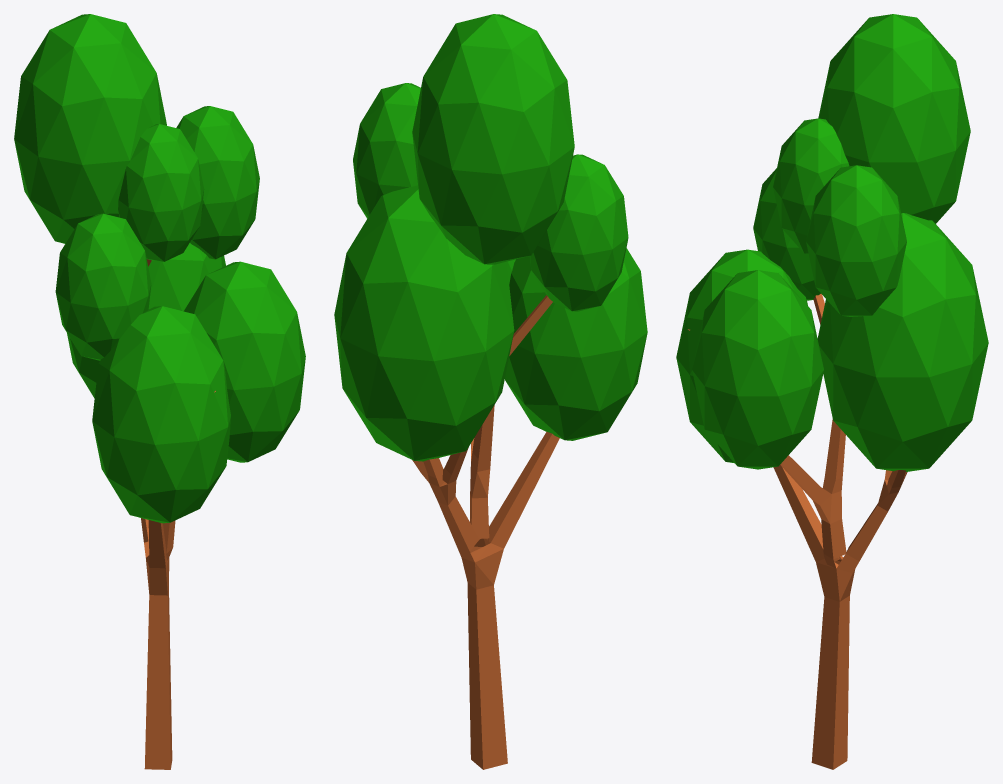
File: tree2.fbx
3 views of the same model, side by side, from view 1: azimuth 30°, elevation 25°; view 2: azimuth 150°, elevation 25°; view 3: azimuth 270°, elevation 25° (orthographic). The views are drawn at different scales.
Parts seen in each view (by area): view 1: Icosphere.003, Icosphere.001, Icosphere, Icosphere.002, Icosphere.005, Icosphere.004, Cube, Icosphere.006; view 2: Icosphere.006, Icosphere.003, Icosphere.001, Cube, Icosphere.002, Icosphere.004; view 3: Icosphere.006, Icosphere.003, Icosphere, Cube, Icosphere.004, Icosphere.005, Icosphere.001, Icosphere.002.
Boxes of the visible parts, x1=… form: Icosphere.003: x1=14, y1=14, x2=166, y2=243; Icosphere.001: x1=92, y1=306, x2=230, y2=523; Icosphere: x1=183, y1=261, x2=305, y2=462; Icosphere.002: x1=55, y1=213, x2=151, y2=360; Icosphere.005: x1=118, y1=124, x2=204, y2=262; Icosphere.004: x1=176, y1=106, x2=259, y2=259; Cube: x1=141, y1=259, x2=215, y2=769; Icosphere.006: x1=67, y1=243, x2=225, y2=398; Icosphere.006: x1=334, y1=185, x2=514, y2=461; Icosphere.003: x1=412, y1=14, x2=574, y2=264; Icosphere.001: x1=505, y1=248, x2=647, y2=440; Cube: x1=412, y1=295, x2=559, y2=769; Icosphere.002: x1=529, y1=154, x2=628, y2=311; Icosphere.004: x1=353, y1=83, x2=420, y2=218; Icosphere.006: x1=817, y1=213, x2=988, y2=471; Icosphere.003: x1=818, y1=14, x2=970, y2=223; Icosphere: x1=692, y1=270, x2=823, y2=469; Cube: x1=688, y1=294, x2=907, y2=769; Icosphere.004: x1=806, y1=165, x2=906, y2=316; Icosphere.005: x1=773, y1=118, x2=849, y2=253; Icosphere.001: x1=676, y1=249, x2=807, y2=463; Icosphere.002: x1=753, y1=168, x2=820, y2=300.
Size of the model in its own units: 225 by 733 by 284.
